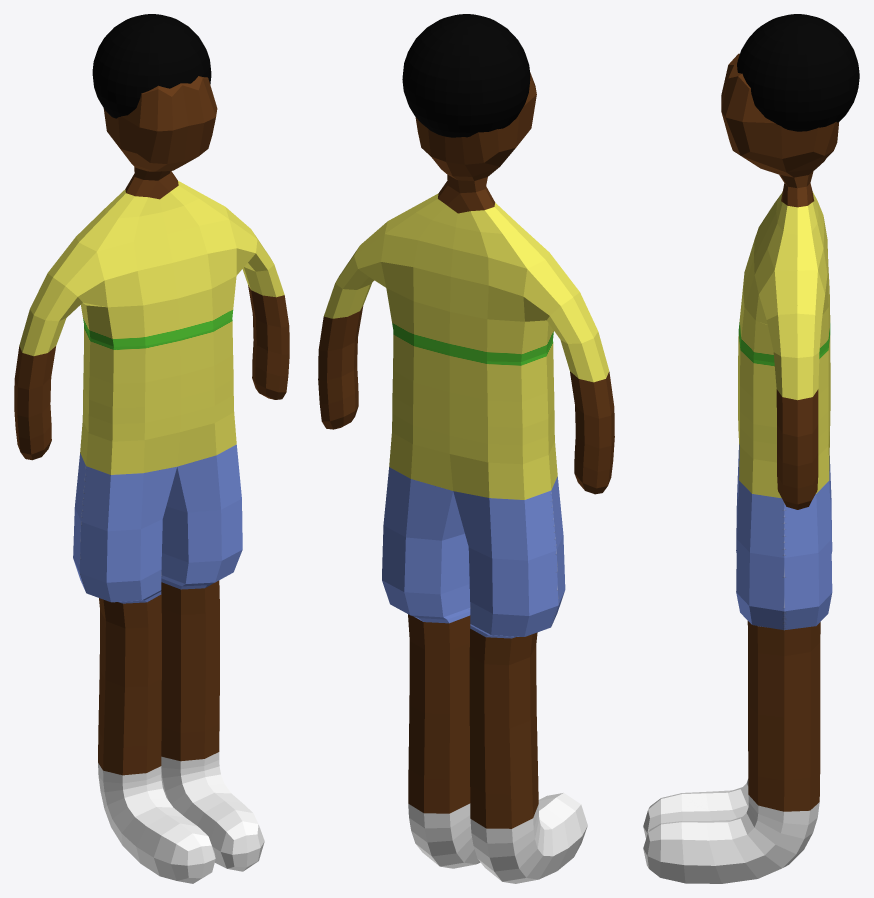
The model's file is Boy.fbx.
The picture shows the model from 3 angles, left to right: view 1: azimuth 30°, elevation 25°; view 2: azimuth 150°, elevation 25°; view 3: azimuth 270°, elevation 25°; orthographic projection. The views are drawn at different scales.
Visible parts, largest first — view 1: Boy, Hair.001; view 2: Boy, Hair.001; view 3: Boy, Hair.001.
Part boxes in pixels (box(x1,y1,x2,y2)): Boy: box(14, 76, 289, 883); Hair.001: box(92, 14, 211, 118); Boy: box(318, 72, 614, 883); Hair.001: box(402, 14, 530, 137); Boy: box(643, 53, 838, 883); Hair.001: box(737, 14, 859, 131).
Bounding box in the file's own units: 9.64 × 27.84 × 6.44.
2 materials, 1 textured.
